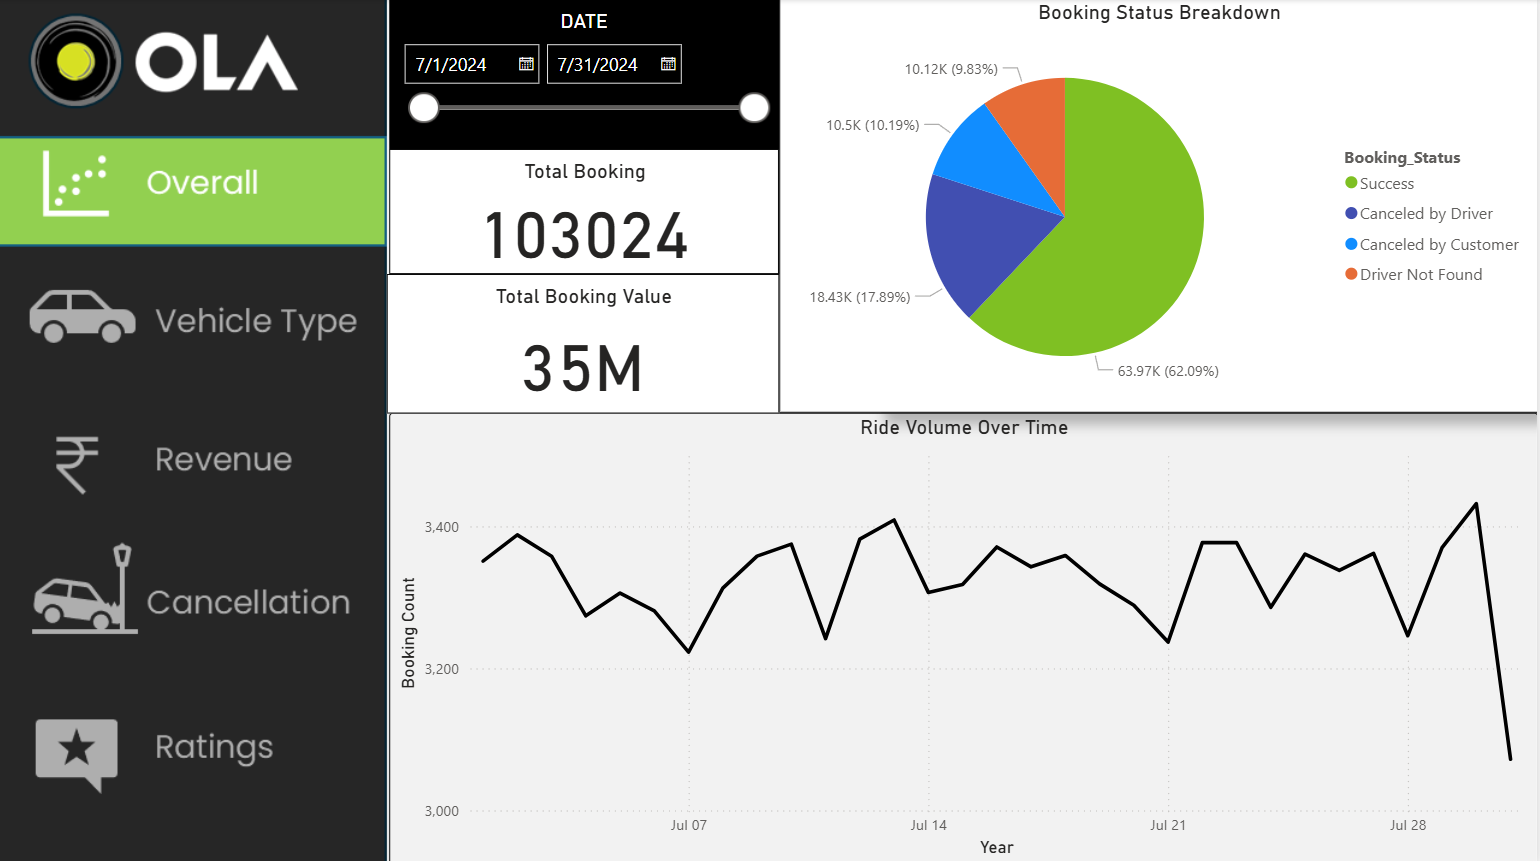

The page's visual inventory and layout, read from the dashboard file:
{"tool":"powerbi","page":{"name":"Over All","canvas":[1280,720],"ordinal":0},"visuals":[{"type":"actionButton","box":[0,115.4,323.2,91.5],"z":0},{"type":"actionButton","box":[0,578.9,323.2,91.5],"z":1000},{"type":"actionButton","box":[1,578.9,323.2,91.5],"z":2000},{"type":"actionButton","box":[0,330.5,323.2,91.5],"z":3000},{"type":"actionButton","box":[0,461.4,323.2,91.5],"z":4000},{"type":"lineChart","title":"Ride Volume Over Time","fields":{"Y":["CountNonNull(July.Booking_ID)"],"Category":["July.Date.Variation.Date Hierarchy.Year","July.Date.Variation.Date Hierarchy.Quarter","July.Date.Variation.Date Hierarchy.Month","July.Date.Variation.Date Hierarchy.Day"]},"box":[325.3,344,955.1,376.2],"z":5000},{"type":"lineChart","title":"Ride Volume Over Time","fields":{"Y":["CountNonNull(July.Booking_ID)"],"Category":["July.Date.Variation.Date Hierarchy.Year","July.Date.Variation.Date Hierarchy.Quarter","July.Date.Variation.Date Hierarchy.Month","July.Date.Variation.Date Hierarchy.Day"]},"box":[732.7,0,547.7,344],"z":6000},{"type":"pieChart","title":"Booking Status Breakdown","fields":{"Category":["July.Booking_Status"],"Y":["CountNonNull(July.Booking_Status)"]},"box":[649.5,0,630.8,344],"z":7000},{"type":"slicer","title":"DATE","fields":{"Values":["July.Date"]},"box":[325.7,0,324.3,124.9],"z":8000},{"type":"card","title":"Total Booking","fields":{"Values":["Count(July.Booking_ID)"]},"box":[325.3,124.7,324.3,103.9],"z":9000},{"type":"card","title":"Total Booking Value","fields":{"Values":["Sum(July.Booking_Value)"]},"box":[323.2,228.6,326.3,116.4],"z":10000},{"type":"actionButton","box":[0,213,323.2,91.5],"z":11000}]}

Visuals, with their boxes in screenshot pixels (x1, y1, x2, y2), scaled from the page's 1280x720 canvas onto the 1540x861 screenshot:
actionButton: {"left": 0, "top": 138, "right": 389, "bottom": 247}
actionButton: {"left": 0, "top": 692, "right": 389, "bottom": 802}
actionButton: {"left": 1, "top": 692, "right": 390, "bottom": 802}
actionButton: {"left": 0, "top": 395, "right": 389, "bottom": 505}
actionButton: {"left": 0, "top": 552, "right": 389, "bottom": 661}
"Ride Volume Over Time" lineChart: {"left": 391, "top": 411, "right": 1539, "bottom": 860}
"Ride Volume Over Time" lineChart: {"left": 882, "top": 0, "right": 1539, "bottom": 411}
"Booking Status Breakdown" pieChart: {"left": 781, "top": 0, "right": 1539, "bottom": 411}
"DATE" slicer: {"left": 392, "top": 0, "right": 782, "bottom": 149}
"Total Booking" card: {"left": 391, "top": 149, "right": 782, "bottom": 273}
"Total Booking Value" card: {"left": 389, "top": 273, "right": 781, "bottom": 413}
actionButton: {"left": 0, "top": 255, "right": 389, "bottom": 364}
